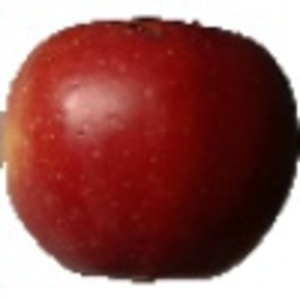maçã braeburn: (1, 12, 299, 286)
